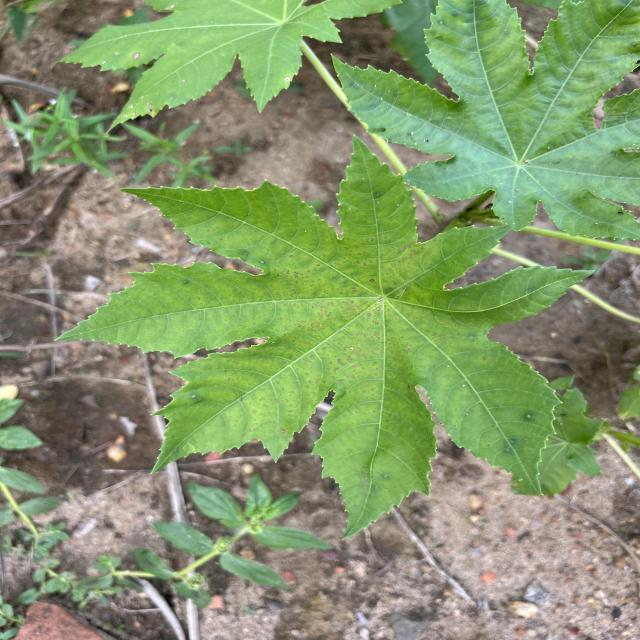Ricinus communis linn: (50, 132, 598, 544), (327, 0, 639, 244)
